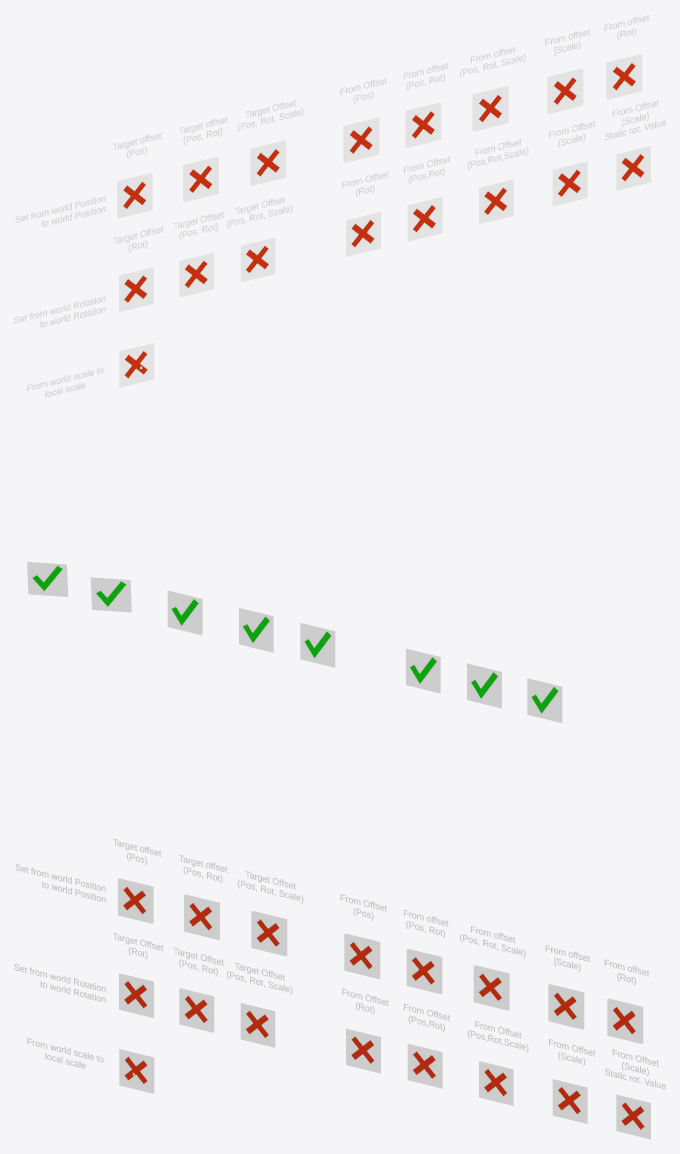
File: FromWorldToWorldTests.glb
3 views of the same model, one above another, from view 1: azimuth 30°, elevation 25°; view 2: azimuth 150°, elevation 25°; view 3: azimuth 330°, elevation 25° (orthographic).
Visible parts, largest first — view 1: Fail (×17), Label; view 2: Pass (×8); view 3: Fail (×17), Label (×3).
Part boxes in pixels (x1=…): Fail (×17): x1=118, y1=55, x2=650, y2=387; Label: x1=14, y1=296, x2=105, y2=327; Pass (×8): x1=27, y1=562, x2=562, y2=722; Fail (×17): x1=118, y1=879, x2=650, y2=1139; Label (×3): x1=14, y1=864, x2=665, y2=1089.
Size of the model in its own units: 18.66 by 6.72 by 0.5414.
3 materials, 3 textured.
